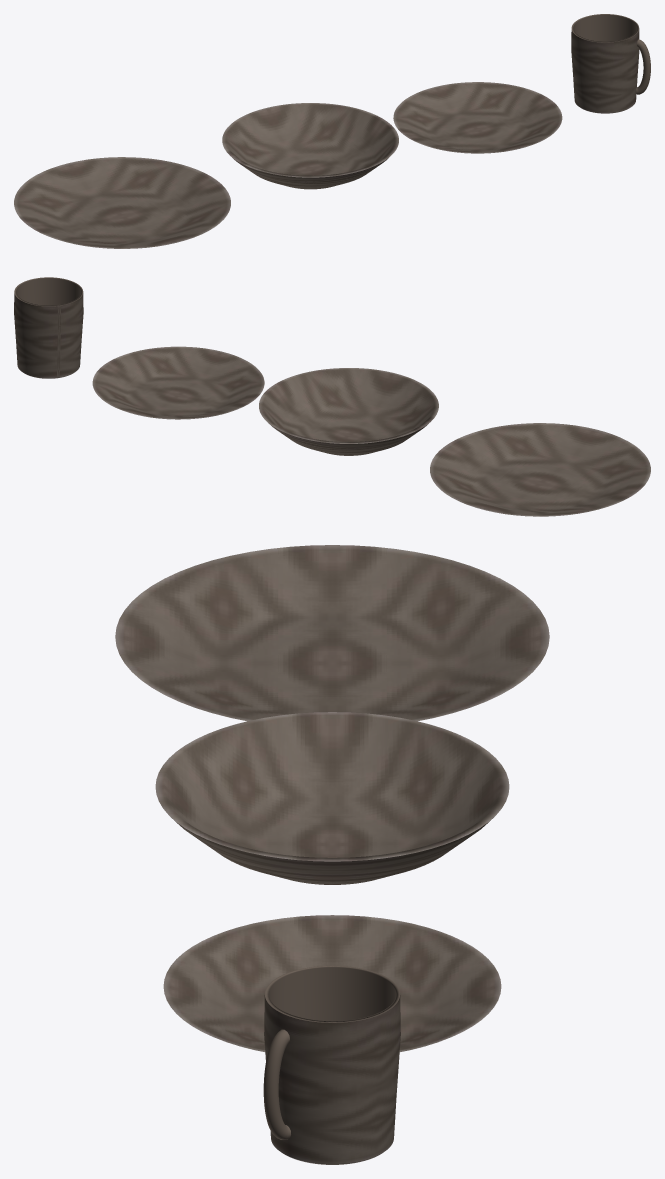
Rendered from MAR-14.glb.
3 renders of one model, top to bottom at view 1: azimuth 30°, elevation 25°; view 2: azimuth 150°, elevation 25°; view 3: azimuth 270°, elevation 25°, orthographic. The views are drawn at different scales.
Bounding box in the file's own units: 0.8707 × 0.1 × 0.27.
9 materials, 7 textured.
